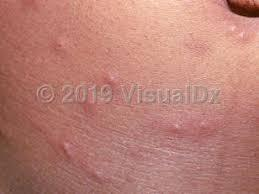Fleas: (49, 130, 81, 164), (85, 165, 111, 189), (229, 23, 250, 41), (197, 116, 215, 135), (167, 123, 190, 133), (103, 74, 119, 86), (82, 100, 98, 112), (54, 41, 62, 51)
